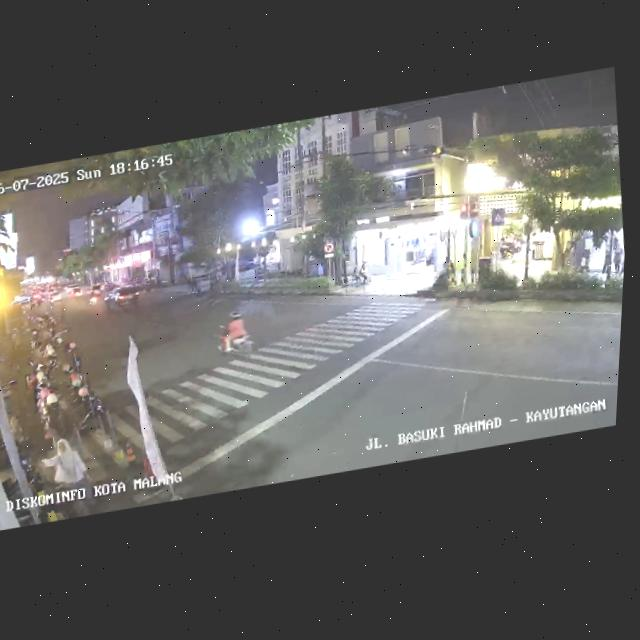car: (102, 282, 143, 313)
motorcycle: (213, 307, 259, 365)
person: (45, 430, 94, 520), (597, 245, 613, 278), (610, 244, 625, 278)
